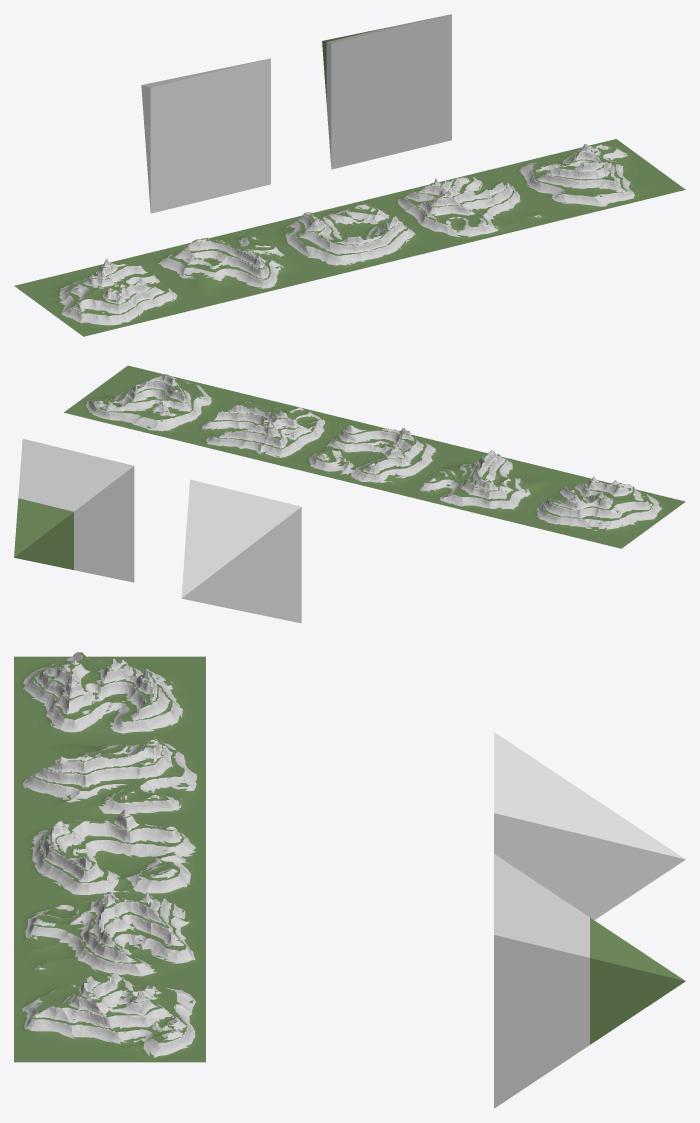
Rendered from Terrain.fbx.
3 views of the same model, one above another, from view 1: azimuth 30°, elevation 25°; view 2: azimuth 150°, elevation 25°; view 3: azimuth 270°, elevation 25° (orthographic). The views are drawn at different scales.
Visible parts, largest first — view 1: Mountain 2, Mountain 1, Landscape 5, Landscape 1, Landscape 2, Landscape 4, Landscape 3; view 2: Mountain 2, Mountain 1, Landscape 1, Landscape 4, Landscape 5, Landscape 3, Landscape 2; view 3: Mountain 2, Mountain 1, Landscape 3, Landscape 1, Landscape 2, Landscape 5, Landscape 4.
Boxes of the visible parts, x1,y1,x2,y2 form: Mountain 2: (322, 14, 451, 169); Mountain 1: (141, 58, 270, 213); Landscape 5: (134, 227, 323, 307); Landscape 1: (14, 256, 203, 336); Landscape 2: (376, 168, 564, 248); Landscape 4: (255, 197, 444, 277); Landscape 3: (496, 139, 685, 218); Mountain 2: (14, 439, 134, 582); Mountain 1: (181, 479, 301, 623); Landscape 1: (510, 474, 685, 548); Landscape 4: (287, 420, 462, 494); Landscape 5: (399, 447, 573, 521); Landscape 3: (64, 365, 238, 439); Landscape 2: (175, 392, 350, 466); Mountain 2: (494, 854, 685, 1108); Mountain 1: (494, 732, 685, 920); Landscape 3: (14, 972, 205, 1062); Landscape 1: (14, 652, 205, 737); Landscape 2: (14, 891, 205, 981); Landscape 5: (14, 737, 205, 818); Landscape 4: (14, 809, 205, 899).
Bounding box in the file's own units: 1000 × 200 × 700.
